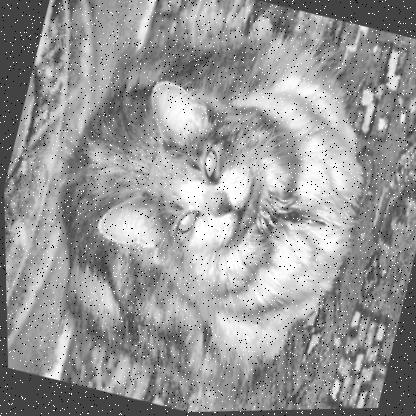cat: (83, 68, 299, 296)
